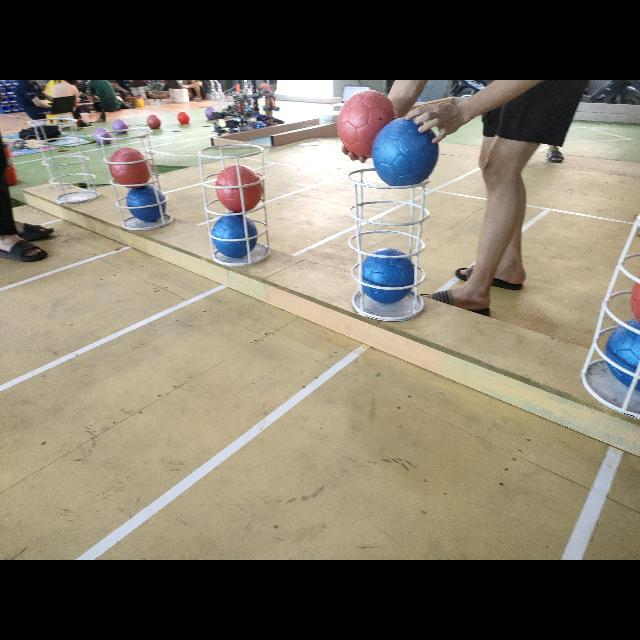B: (358, 248, 414, 304), (608, 321, 640, 393), (212, 214, 256, 258), (126, 187, 166, 223)
R: (215, 165, 263, 212), (110, 147, 150, 187), (630, 275, 640, 323)
